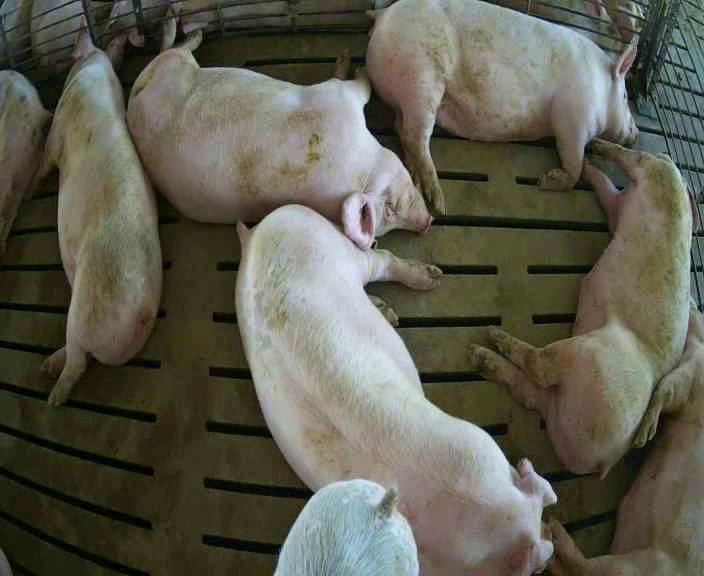pig: (236, 205, 555, 573), (127, 18, 431, 247), (366, 2, 637, 214), (24, 14, 161, 405), (549, 308, 703, 574), (274, 479, 418, 575)
